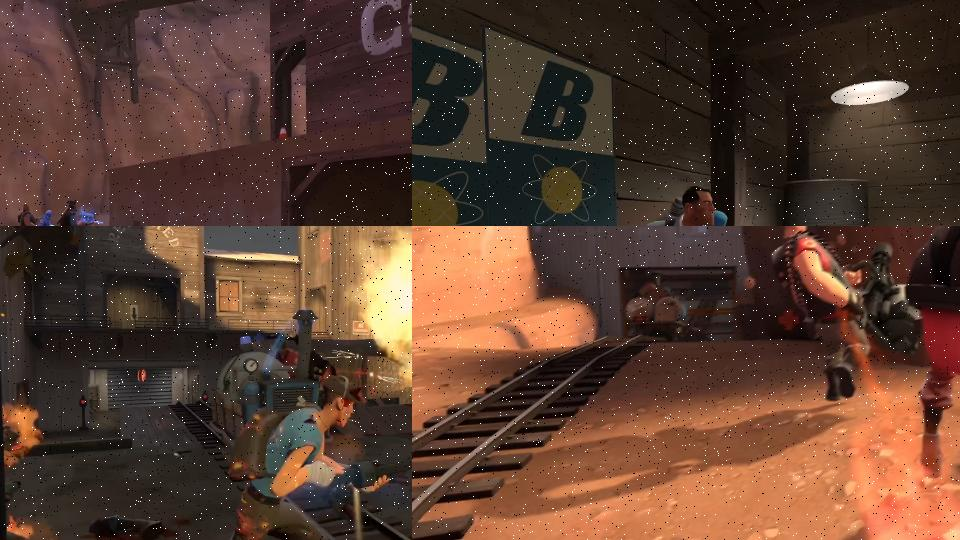Enemy: (184, 374, 412, 540), (766, 226, 927, 402), (888, 226, 960, 540), (56, 201, 102, 226), (16, 203, 55, 226)
